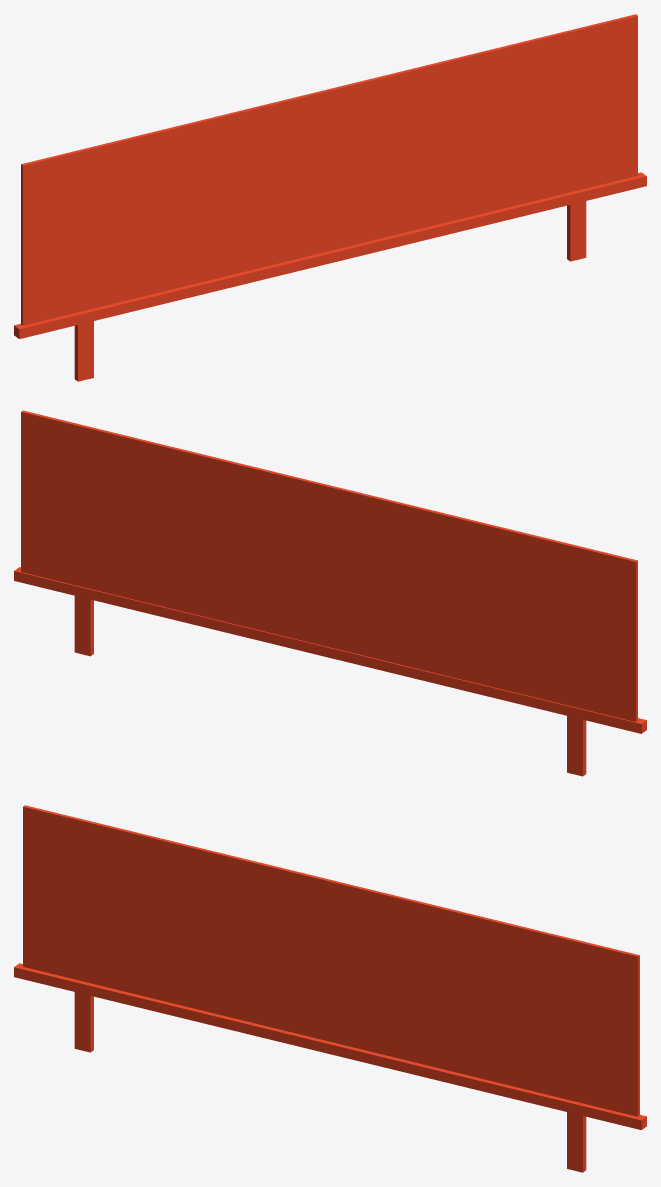
Rendered from SM_Sign_Shelf_A_City.fbx.
The picture shows the model from 3 angles, top to bottom: view 1: azimuth 30°, elevation 25°; view 2: azimuth 150°, elevation 25°; view 3: azimuth 330°, elevation 25°; orthographic projection.
Visible parts, largest first — view 1: SM_Sign_Shelf_A_City; view 2: SM_Sign_Shelf_A_City; view 3: SM_Sign_Shelf_A_City.
Part boxes in pixels (<box>): SM_Sign_Shelf_A_City: <box>14,14,646,381</box>; SM_Sign_Shelf_A_City: <box>14,410,646,776</box>; SM_Sign_Shelf_A_City: <box>14,805,646,1172</box>.
Bounding box in the file's own units: 0.8386 × 0.2908 × 0.0126.
